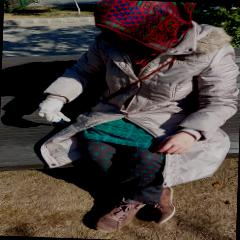gloved: (39, 98, 70, 123)
not-gloved: (157, 132, 196, 156)
